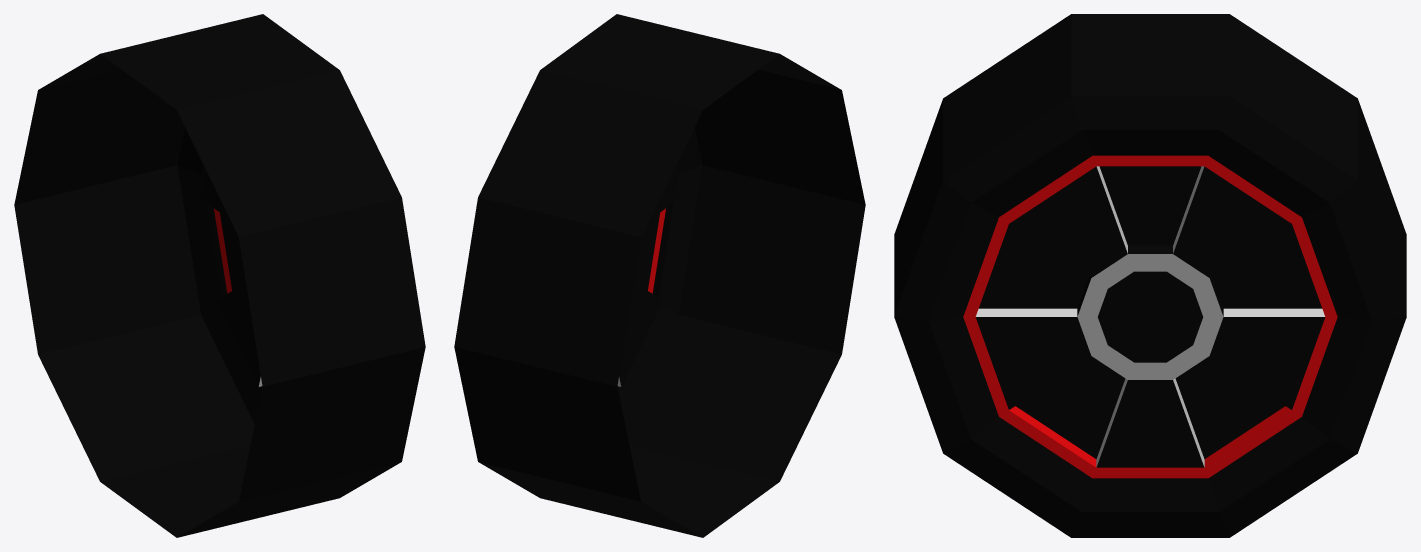
Rendered from 6x6_Wheel.glb.
3 views of the same model, side by side, from view 1: azimuth 30°, elevation 25°; view 2: azimuth 150°, elevation 25°; view 3: azimuth 270°, elevation 25° (orthographic). The views are drawn at different scales.
Parts seen in each view (by area): view 1: 6x6Wheel; view 2: 6x6Wheel; view 3: 6x6Wheel.
Boxes of the visible parts, x1,y1,x2,y2 form: 6x6Wheel: [14, 14, 425, 537]; 6x6Wheel: [454, 14, 865, 537]; 6x6Wheel: [894, 14, 1406, 537].
Size of the model in its own units: 0.8799 by 2.11 by 2.21.
